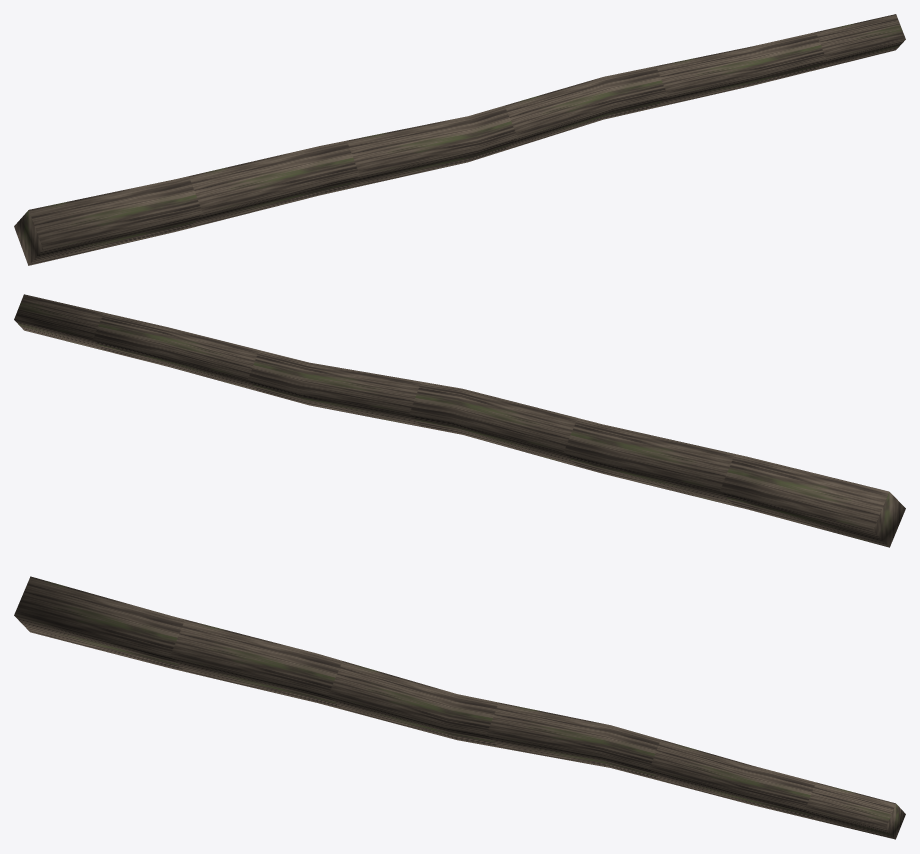
The model's file is Log_Fallen_2_LOD2.gltf.
The picture shows the model from 3 angles, top to bottom: view 1: azimuth 30°, elevation 25°; view 2: azimuth 150°, elevation 25°; view 3: azimuth 330°, elevation 25°; orthographic projection.
Parts seen in each view (by area): view 1: Log_Fallen_2_LOD2; view 2: Log_Fallen_2_LOD2; view 3: Log_Fallen_2_LOD2.
Part boxes in pixels (<box>): Log_Fallen_2_LOD2: <box>14,14,905,265</box>; Log_Fallen_2_LOD2: <box>14,294,905,547</box>; Log_Fallen_2_LOD2: <box>14,576,905,839</box>.
Bounding box in the file's own units: 11.01 × 0.68 × 0.7581.
1 material, 1 textured.
